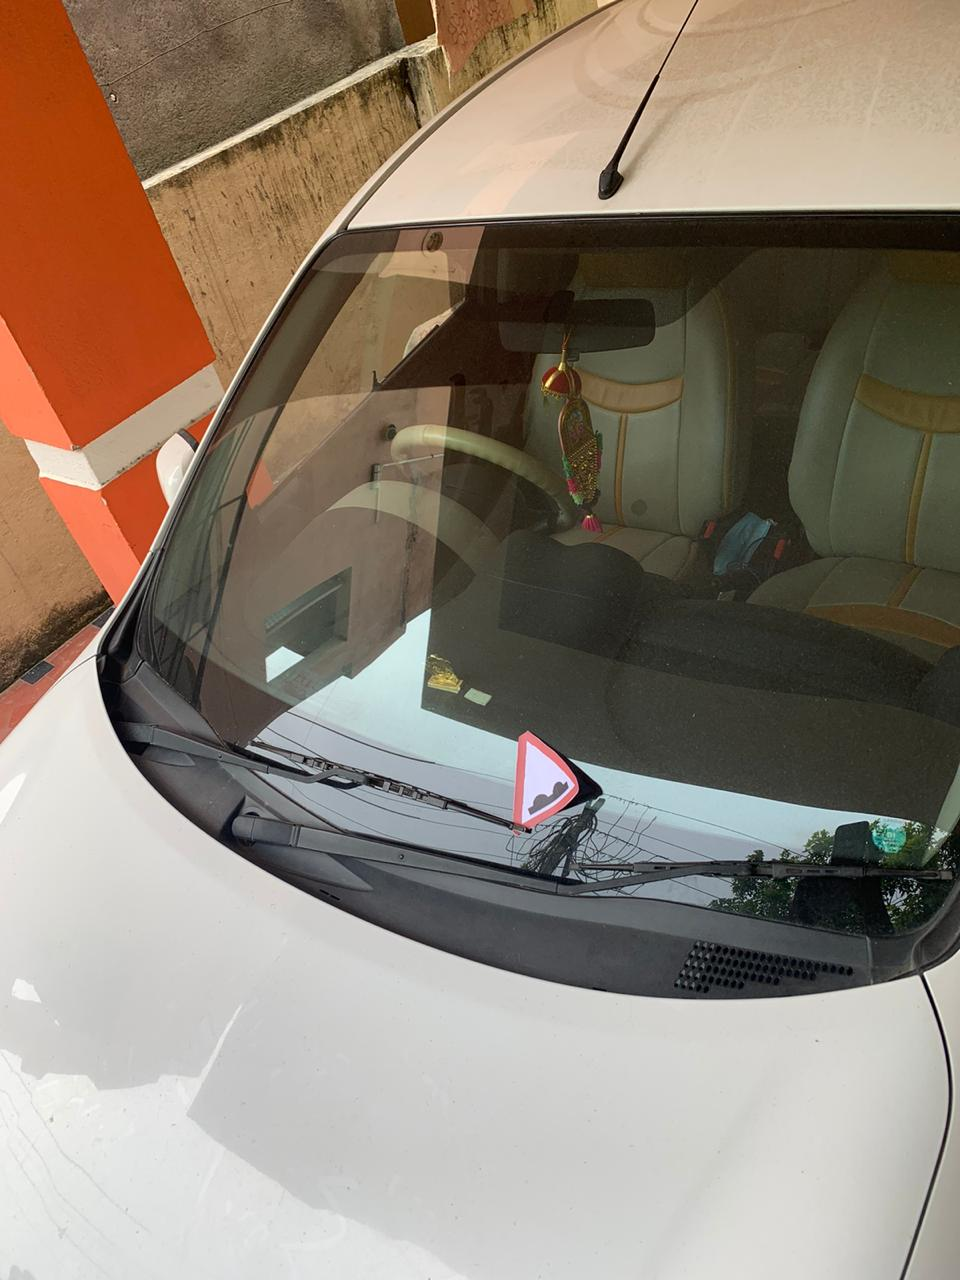UNEVEN ROAD: (474, 715, 586, 838)
